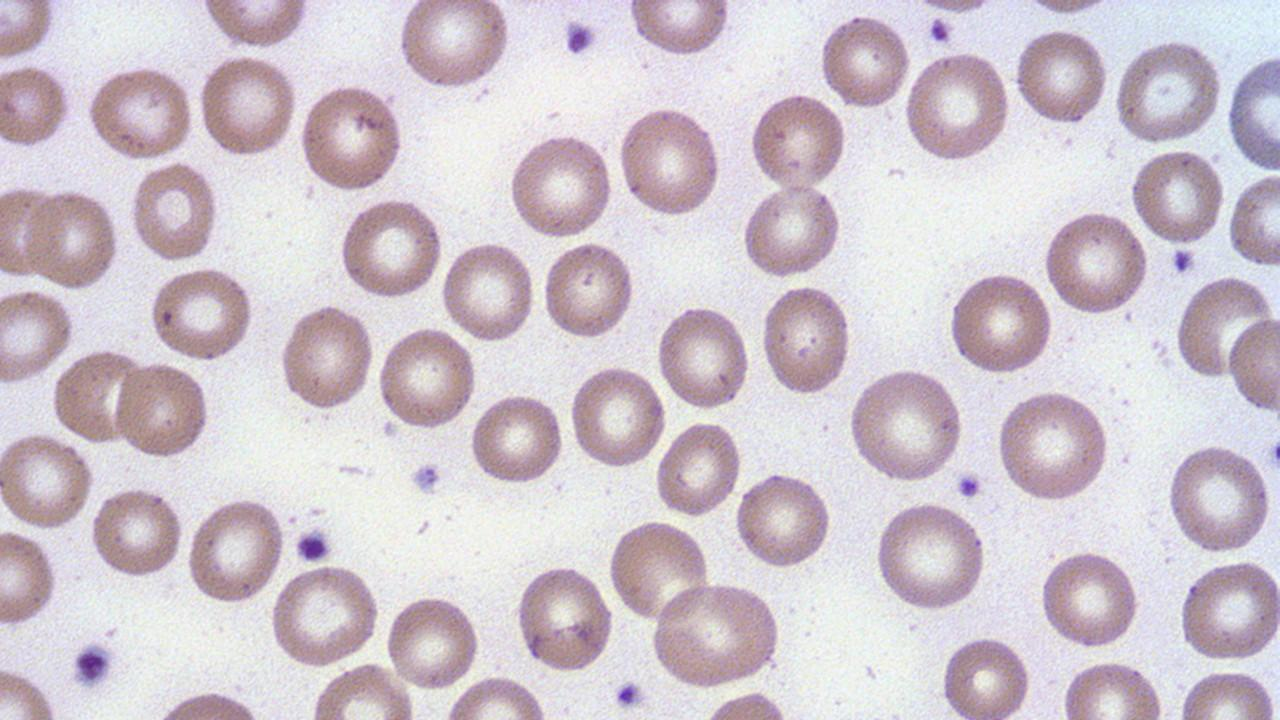Platelets: (69, 638, 118, 690), (292, 526, 335, 566), (562, 17, 599, 60), (408, 460, 443, 496), (956, 470, 984, 500), (1170, 246, 1198, 274), (1267, 437, 1280, 472)
RBC: (648, 579, 784, 690), (848, 364, 966, 486), (996, 386, 1112, 504), (874, 498, 990, 615), (616, 103, 724, 222), (903, 49, 1011, 165), (297, 82, 406, 196), (266, 562, 381, 670), (1166, 441, 1274, 555), (511, 560, 617, 676), (1040, 207, 1150, 318), (506, 129, 616, 240), (1113, 36, 1225, 145), (184, 492, 287, 608), (606, 516, 714, 626), (1174, 270, 1276, 386), (946, 269, 1055, 377), (335, 195, 445, 302), (195, 53, 300, 162), (276, 301, 376, 415), (374, 324, 479, 432), (1175, 556, 1279, 665), (1037, 546, 1143, 652), (760, 280, 854, 398), (146, 264, 258, 363), (85, 63, 196, 162), (738, 181, 846, 282), (396, 0, 512, 94), (566, 363, 666, 472), (654, 303, 751, 412), (732, 469, 834, 572), (110, 360, 213, 461), (439, 238, 536, 345), (383, 590, 484, 692), (748, 89, 848, 192), (25, 187, 121, 293), (1128, 146, 1226, 249), (1012, 25, 1110, 128), (539, 238, 636, 342), (816, 9, 912, 113), (49, 347, 148, 446), (127, 159, 220, 264), (87, 484, 186, 582), (468, 391, 566, 488), (0, 431, 95, 531), (654, 417, 744, 520), (938, 630, 1035, 718), (0, 284, 77, 388), (1056, 656, 1168, 718), (1225, 50, 1280, 174), (309, 658, 418, 720), (0, 62, 74, 152), (626, 1, 732, 60), (0, 526, 60, 630), (0, 184, 58, 282), (199, 2, 312, 52), (1225, 312, 1279, 416), (1225, 168, 1279, 269), (1175, 666, 1277, 717), (442, 674, 550, 718), (0, 3, 55, 65)
